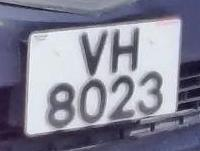0: (77, 75, 110, 127)
2: (108, 71, 140, 124)
3: (135, 67, 167, 120)
8: (42, 78, 80, 134)
H: (108, 24, 144, 77)
V: (78, 26, 108, 76)
